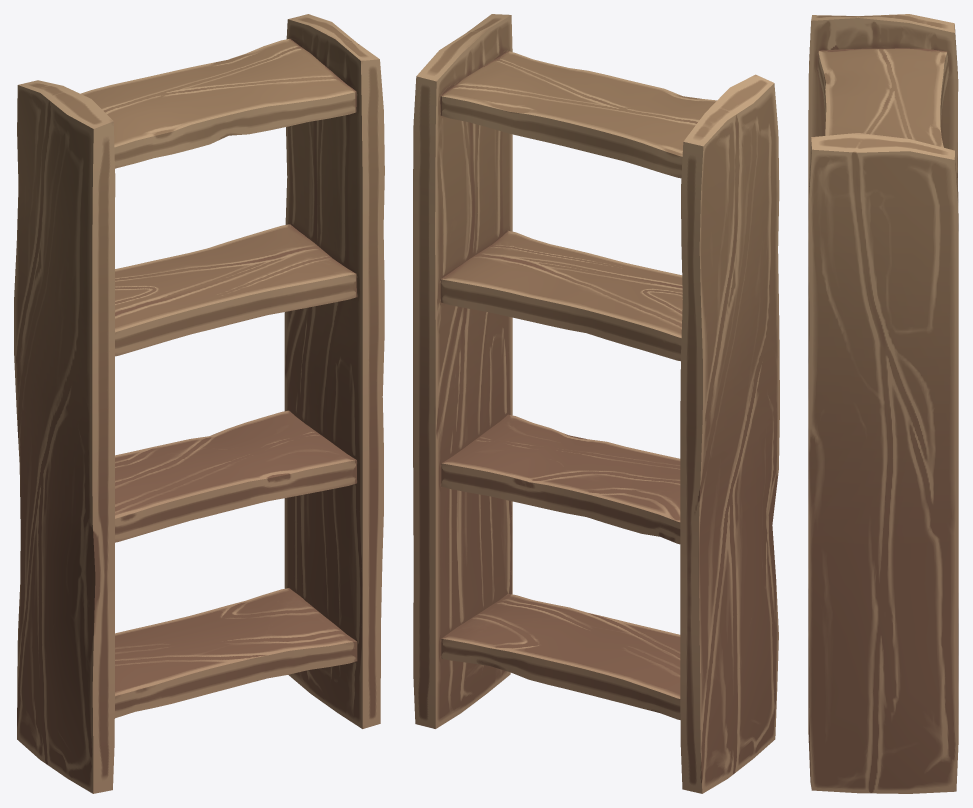
The model's file is shelf_tall.fbx.
3 views of the same model, side by side, from view 1: azimuth 30°, elevation 25°; view 2: azimuth 150°, elevation 25°; view 3: azimuth 270°, elevation 25° (orthographic). The views are drawn at different scales.
Parts seen in each view (by area): view 1: shelf_tall; view 2: shelf_tall; view 3: shelf_tall.
Part boxes in pixels (box(x1,y1,x2,y2)): shelf_tall: box(14, 14, 384, 793); shelf_tall: box(413, 14, 779, 793); shelf_tall: box(808, 14, 958, 793).
Bounding box in the file's own units: 127 × 270 × 56.74.
Materials: 1 (1 with a texture image).
